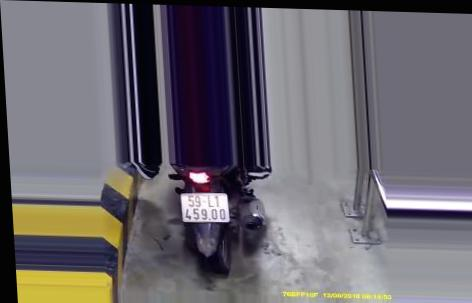License_Plate: (174, 187, 236, 225)
